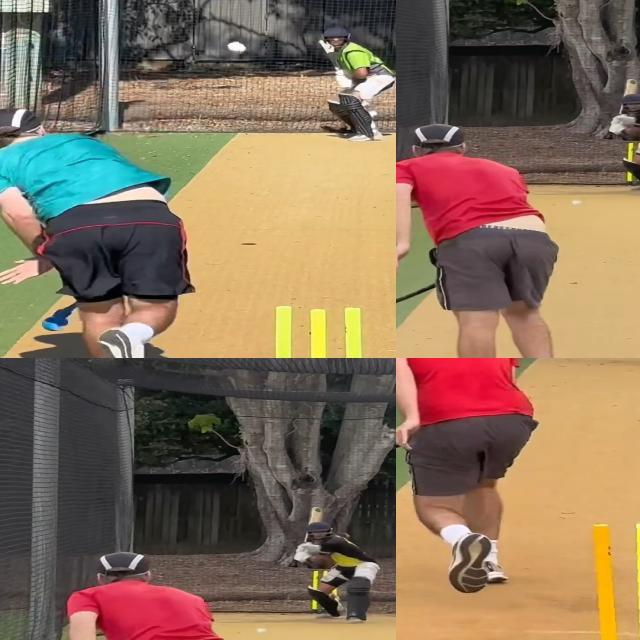Cricket ball: (225, 39, 249, 54), (570, 198, 586, 208), (255, 626, 271, 636)
Stumps: (580, 519, 640, 640)
